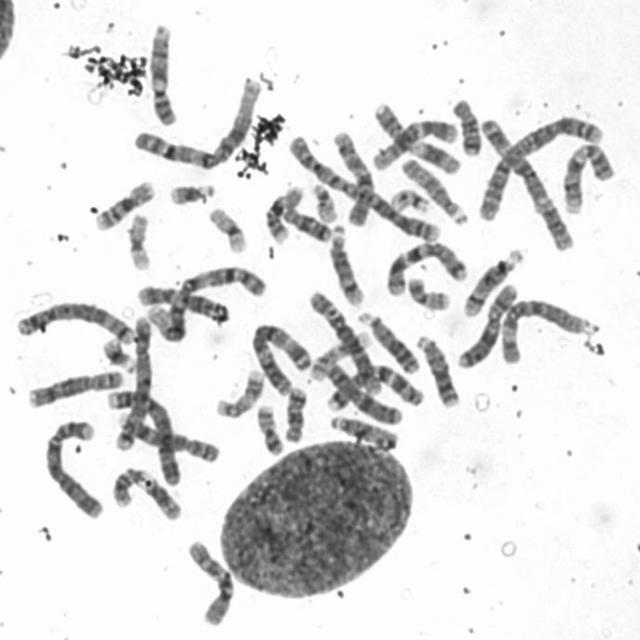A1: (128, 72, 262, 169), (147, 258, 269, 343)
A2: (284, 132, 444, 244), (472, 108, 608, 224)
A3: (474, 113, 577, 252), (247, 318, 315, 399)
B4: (104, 383, 184, 488), (42, 415, 105, 519)
B5: (11, 296, 137, 347), (111, 309, 155, 453)
C10: (182, 536, 238, 628), (328, 127, 376, 227)
C11: (369, 102, 464, 176), (108, 464, 185, 523)
C12: (369, 112, 462, 173), (137, 284, 231, 326)
C6: (306, 286, 384, 398), (497, 295, 595, 367)
C7: (323, 358, 426, 412), (383, 237, 472, 299)
C8: (112, 405, 224, 465), (22, 363, 127, 410)
C9: (557, 137, 619, 217), (147, 18, 180, 128)
D13: (355, 306, 420, 376), (413, 330, 463, 409)
D14: (459, 244, 526, 319), (325, 218, 368, 308)
D15: (398, 152, 471, 225), (325, 411, 401, 452)
E16: (90, 174, 158, 234), (261, 181, 305, 244)
E17: (306, 325, 372, 383), (212, 366, 266, 420)
E18: (447, 94, 484, 158), (278, 202, 334, 244)
F19: (204, 202, 250, 255), (123, 208, 156, 272)
F20: (401, 271, 452, 312), (252, 400, 287, 457)
G21: (97, 332, 140, 373), (165, 175, 218, 208)
G22: (307, 178, 341, 224), (388, 184, 433, 215)
X: (454, 280, 520, 370), (322, 358, 407, 427)
